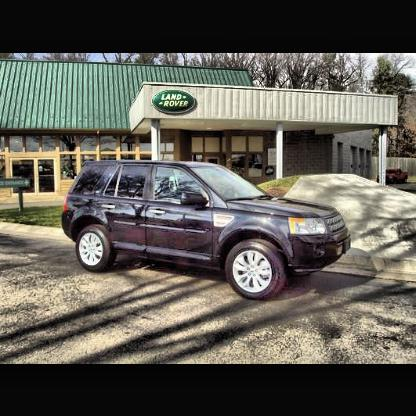Land Rover LR2 SUV 2012: (63, 162, 351, 301)
